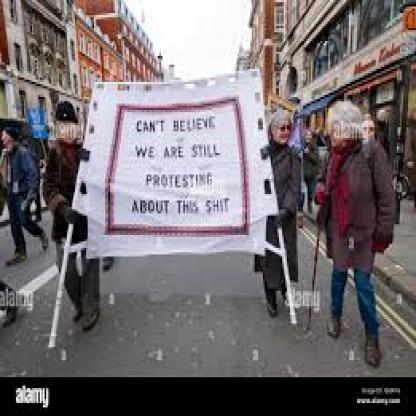BANNER: (72, 73, 276, 259)
